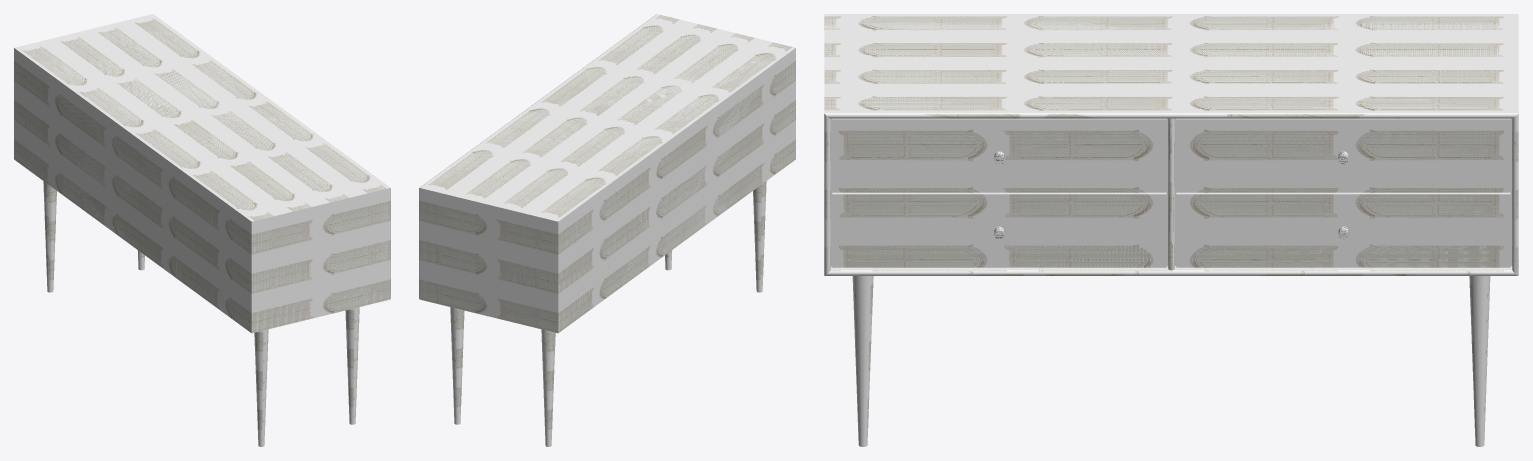
3 renders of one model, left to right at view 1: azimuth 30°, elevation 25°; view 2: azimuth 150°, elevation 25°; view 3: azimuth 270°, elevation 25°, orthographic. The views are drawn at different scales.
Parts seen in each view (by area): view 1: mesh6_mesh6-geometry, mesh8_mesh8-geometry, mesh9_mesh9-geometry; view 2: mesh6_mesh6-geometry, mesh9_mesh9-geometry, mesh8_mesh8-geometry; view 3: mesh6_mesh6-geometry, mesh8_mesh8-geometry, mesh9_mesh9-geometry.
Part boxes in pixels (box(x1,y1,x2,y2)): mesh6_mesh6-geometry: box(14, 14, 390, 333); mesh8_mesh8-geometry: box(254, 307, 359, 446); mesh9_mesh9-geometry: box(43, 181, 144, 292); mesh6_mesh6-geometry: box(419, 14, 795, 333); mesh9_mesh9-geometry: box(450, 307, 555, 446); mesh8_mesh8-geometry: box(665, 181, 766, 292); mesh6_mesh6-geometry: box(824, 14, 1518, 275); mesh8_mesh8-geometry: box(852, 276, 873, 446); mesh9_mesh9-geometry: box(1469, 276, 1490, 446).
Size of the model in its own units: 0.291 by 0.4646 by 0.8363.
